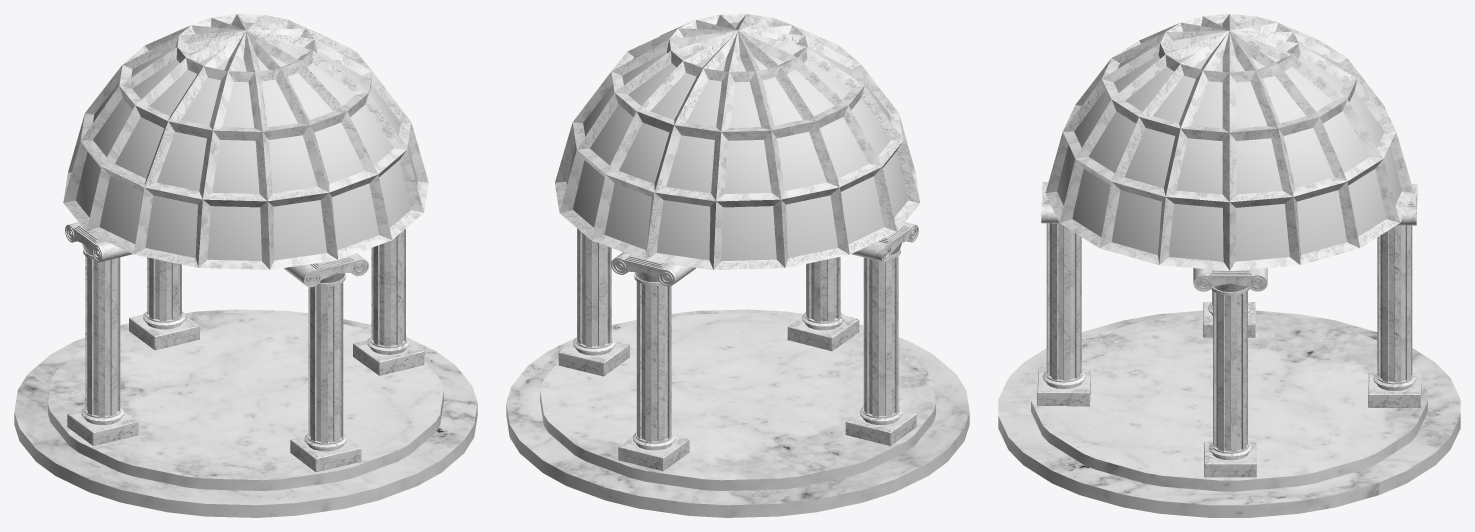
The model's file is Project modulaire hub.fbx.
The picture shows the model from 3 angles, left to right: view 1: azimuth 30°, elevation 25°; view 2: azimuth 150°, elevation 25°; view 3: azimuth 270°, elevation 25°; orthographic projection.
Parts seen in each view (by area): view 1: Modulaire Hub.001; view 2: Modulaire Hub.001; view 3: Modulaire Hub.001.
Boxes of the visible parts, box(x1,y1,x2,y2) form: Modulaire Hub.001: box(14, 14, 477, 517); Modulaire Hub.001: box(506, 14, 969, 517); Modulaire Hub.001: box(998, 14, 1460, 517).
Size of the model in its own units: 679 by 631 by 679.
